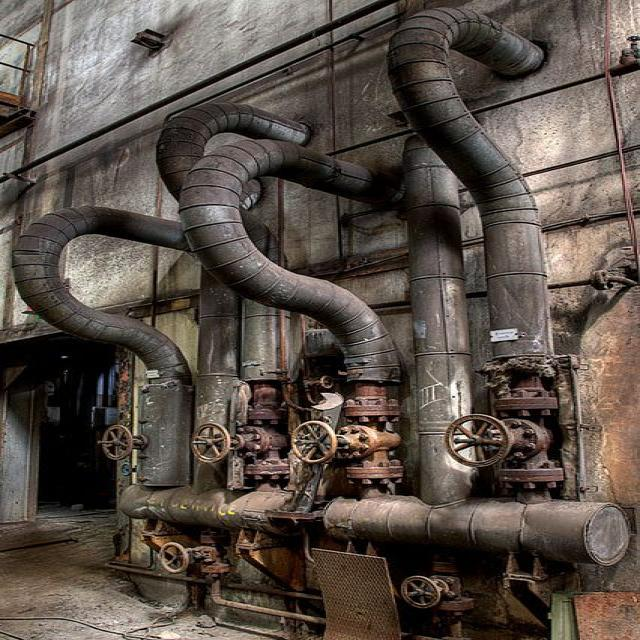Wheel Handle Valve Threaded: (449, 395, 563, 482), (294, 406, 403, 479), (191, 410, 291, 476), (401, 565, 478, 611), (162, 533, 231, 576)
